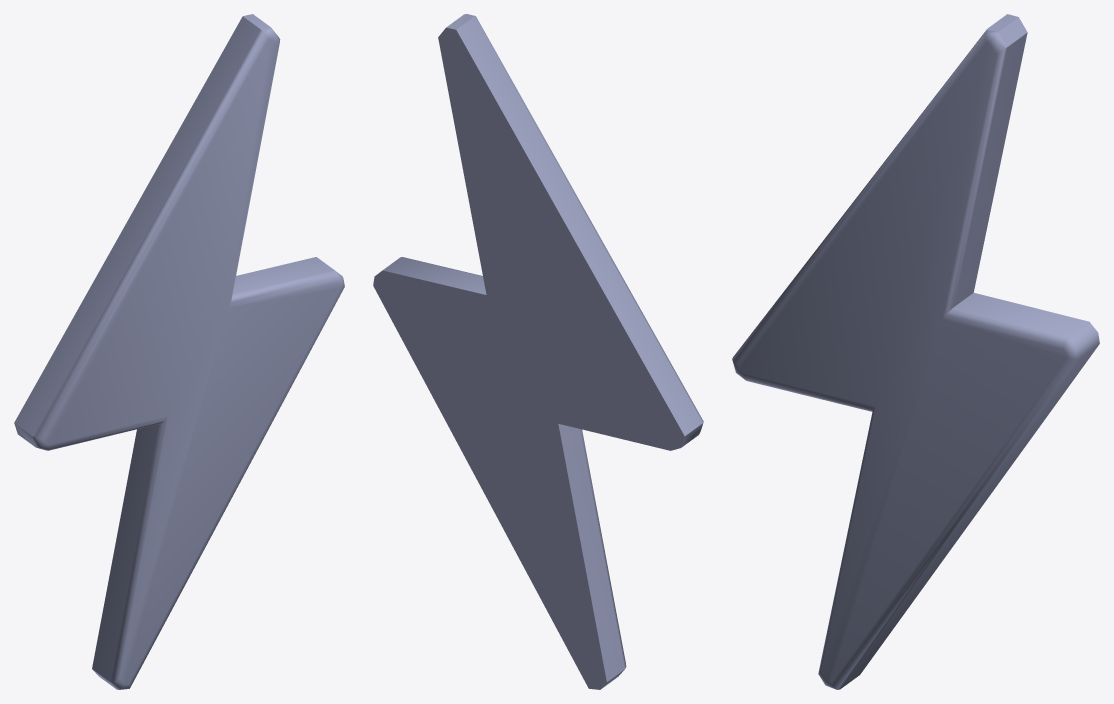
File: Lighting_1.fbx
3 views of the same model, side by side, from view 1: azimuth 30°, elevation 25°; view 2: azimuth 150°, elevation 25°; view 3: azimuth 330°, elevation 25° (orthographic). The views are drawn at different scales.
Parts seen in each view (by area): view 1: Lighting_1; view 2: Lighting_1; view 3: Lighting_1.
Part boxes in pixels (x1,y1,x2,y2): Lighting_1: [14, 14, 344, 689]; Lighting_1: [373, 14, 703, 689]; Lighting_1: [732, 14, 1099, 689].
Bounding box in the file's own units: 0.1462 × 0.2808 × 0.0181.
